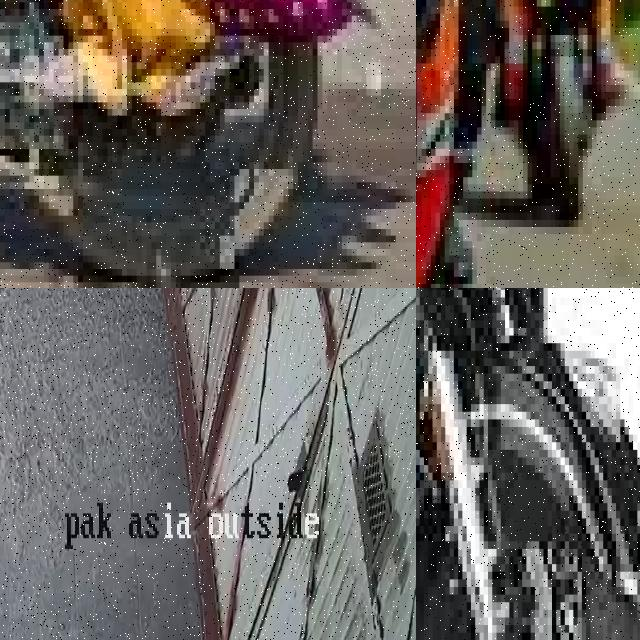bike: (0, 0, 376, 288), (416, 288, 640, 640), (499, 0, 624, 227), (416, 0, 467, 288)
